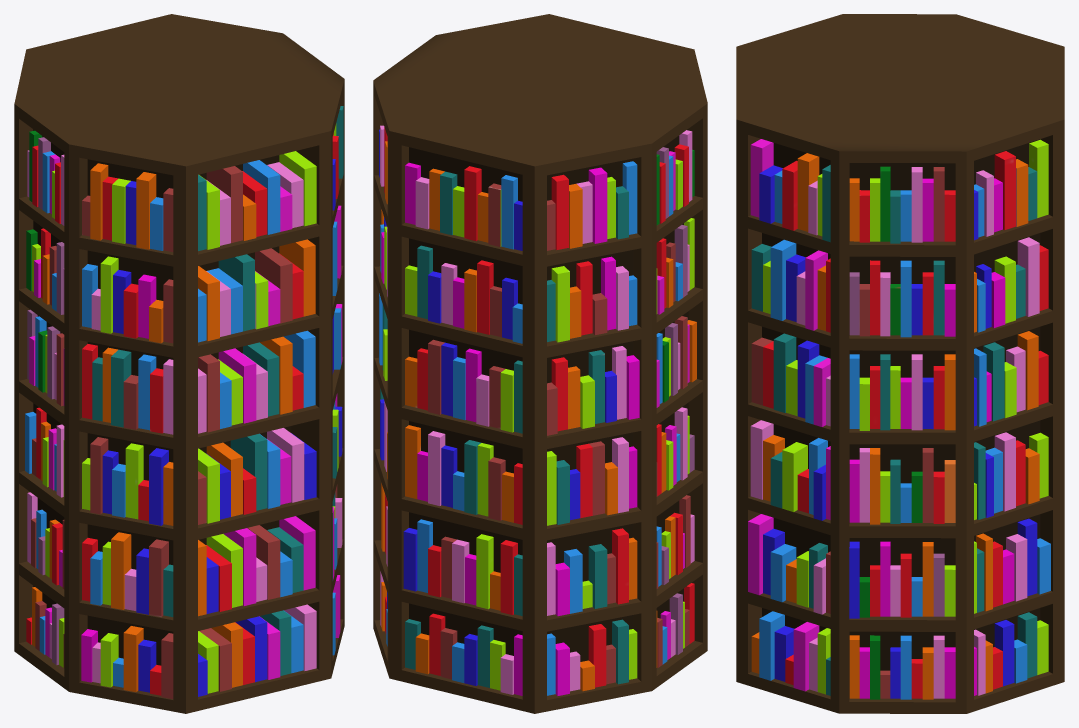
The model's file is hondana8kaku.fbx.
3 renders of one model, left to right at view 1: azimuth 30°, elevation 25°; view 2: azimuth 150°, elevation 25°; view 3: azimuth 270°, elevation 25°, orthographic. The views are drawn at different scales.
Visible parts, largest first — view 1: pole; view 2: pole; view 3: pole.
Part boxes in pixels (box(x1,y1,x2,y2)): pole: box(14, 14, 344, 713); pole: box(373, 14, 707, 713); pole: box(736, 14, 1064, 713).
Size of the model in its own units: 8.91 by 16.99 by 8.98.
